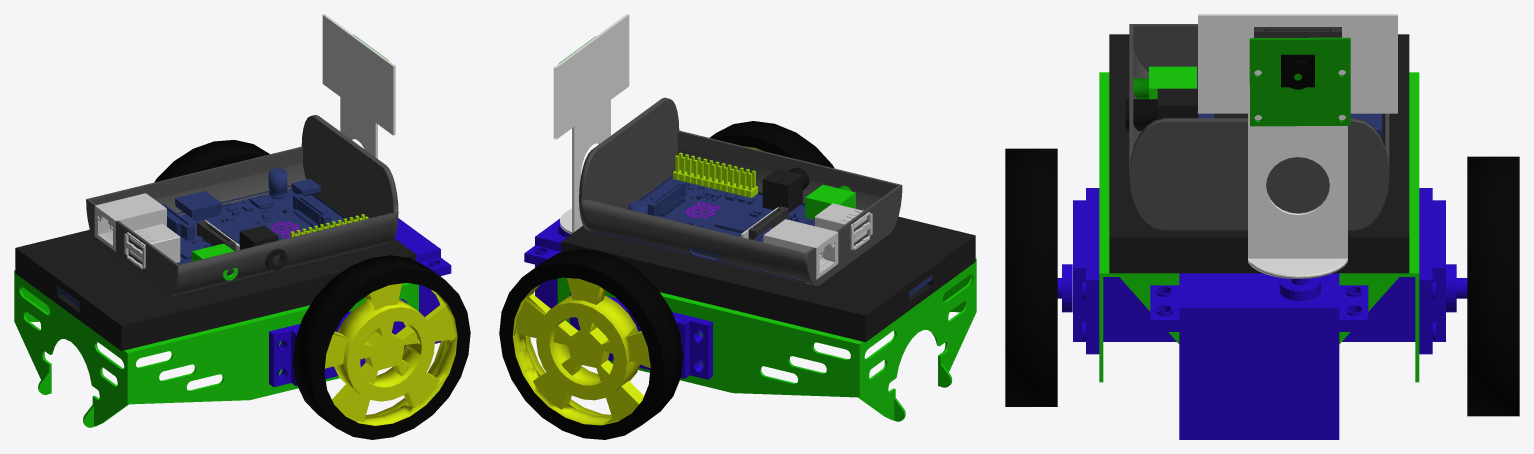
The model's file is pibot.dae.
3 views of the same model, side by side, from view 1: azimuth 30°, elevation 25°; view 2: azimuth 150°, elevation 25°; view 3: azimuth 270°, elevation 25° (orthographic). The views are drawn at different scales.
Visible parts, largest first — view 1: Mesh1_Plastic_Wheel1_Model, Mesh120_case1_pi1_chasis1_Model, Mesh135_bateria1_chasis1_Model, Mesh137_base1_chasis1_Model, Mesh4_Group1_Model, Mesh31_board1_Group1_pi1_chasis1_Model, Mesh15_Group3_Group1_pi1_chasis1_Model, Mesh1_Plastic_Wheel1_Model_001, Mesh19_Group4_IO_04b1_Group1_pi1_chasis1_Model, Mesh139_servoC3_Model, Mesh123_servoC1_servosM1_chasis1_Model, Mesh30_charge1_Group1_pi1_chasis1_Model (+6 smaller); view 2: Mesh1_Plastic_Wheel1_Model_001, Mesh120_case1_pi1_chasis1_Model, Mesh135_bateria1_chasis1_Model, Mesh137_base1_chasis1_Model, Mesh4_Group1_Model, Mesh31_board1_Group1_pi1_chasis1_Model, Mesh1_Plastic_Wheel1_Model, Mesh15_Group3_Group1_pi1_chasis1_Model, Mesh30_charge1_Group1_pi1_chasis1_Model, Mesh139_servoC3_Model, Mesh19_Group4_IO_04b1_Group1_pi1_chasis1_Model, Mesh130_servoC2_servosM1_chasis1_Model (+5 smaller); view 3: Mesh139_servoC3_Model, Mesh4_Group1_Model, Mesh120_case1_pi1_chasis1_Model, Mesh135_bateria1_chasis1_Model, Mesh1_Plastic_Wheel1_Model_001, Mesh1_Plastic_Wheel1_Model, Mesh137_base1_chasis1_Model, Mesh3_Component_7_1_Group1_Model_0012, Mesh129_servoC2_servosM1_chasis1_Model, Mesh122_servoC1_servosM1_chasis1_Model, Mesh30_charge1_Group1_pi1_chasis1_Model, Mesh29_jack1_Group1_pi1_chasis1_Model (+6 smaller).
Part boxes in pixels (box(x1,y1,x2,y2)): Mesh1_Plastic_Wheel1_Model: box(293, 255, 470, 439); Mesh120_case1_pi1_chasis1_Model: box(86, 115, 398, 296); Mesh135_bateria1_chasis1_Model: box(15, 195, 415, 350); Mesh137_base1_chasis1_Model: box(14, 270, 418, 427); Mesh4_Group1_Model: box(322, 14, 395, 158); Mesh31_board1_Group1_pi1_chasis1_Model: box(161, 185, 349, 264); Mesh15_Group3_Group1_pi1_chasis1_Model: box(94, 193, 166, 251); Mesh1_Plastic_Wheel1_Model_001: box(154, 140, 269, 182); Mesh19_Group4_IO_04b1_Group1_pi1_chasis1_Model: box(124, 224, 180, 269); Mesh139_servoC3_Model: box(394, 218, 440, 343); Mesh123_servoC1_servosM1_chasis1_Model: box(269, 327, 291, 387); Mesh30_charge1_Group1_pi1_chasis1_Model: box(239, 225, 287, 270); Mesh1_Plastic_Wheel1_Model_001: box(499, 249, 683, 439); Mesh120_case1_pi1_chasis1_Model: box(579, 97, 902, 285); Mesh135_bateria1_chasis1_Model: box(561, 207, 975, 342); Mesh137_base1_chasis1_Model: box(557, 258, 976, 421); Mesh4_Group1_Model: box(553, 14, 629, 233); Mesh31_board1_Group1_pi1_chasis1_Model: box(598, 175, 814, 282); Mesh1_Plastic_Wheel1_Model: box(709, 121, 834, 168); Mesh15_Group3_Group1_pi1_chasis1_Model: box(763, 219, 838, 279); Mesh30_charge1_Group1_pi1_chasis1_Model: box(762, 167, 809, 212); Mesh139_servoC3_Model: box(524, 218, 566, 308); Mesh19_Group4_IO_04b1_Group1_pi1_chasis1_Model: box(815, 203, 872, 250); Mesh130_servoC2_servosM1_chasis1_Model: box(689, 317, 712, 379); Mesh139_servoC3_Model: box(1179, 273, 1368, 439); Mesh4_Group1_Model: box(1198, 14, 1397, 278); Mesh120_case1_pi1_chasis1_Model: box(1129, 24, 1389, 230); Mesh135_bateria1_chasis1_Model: box(1109, 34, 1409, 273); Mesh1_Plastic_Wheel1_Model_001: box(1467, 156, 1519, 416); Mesh1_Plastic_Wheel1_Model: box(1005, 148, 1057, 406); Mesh137_base1_chasis1_Model: box(1099, 72, 1419, 382); Mesh3_Component_7_1_Group1_Model_0012: box(1249, 37, 1350, 126); Mesh129_servoC2_servosM1_chasis1_Model: box(1342, 200, 1445, 354); Mesh122_servoC1_servosM1_chasis1_Model: box(1073, 200, 1176, 354); Mesh30_charge1_Group1_pi1_chasis1_Model: box(1125, 88, 1198, 131); Mesh29_jack1_Group1_pi1_chasis1_Model: box(1133, 66, 1196, 99).
Bounding box in the file's own units: 0.1434 × 0.1285 × 0.1205.
